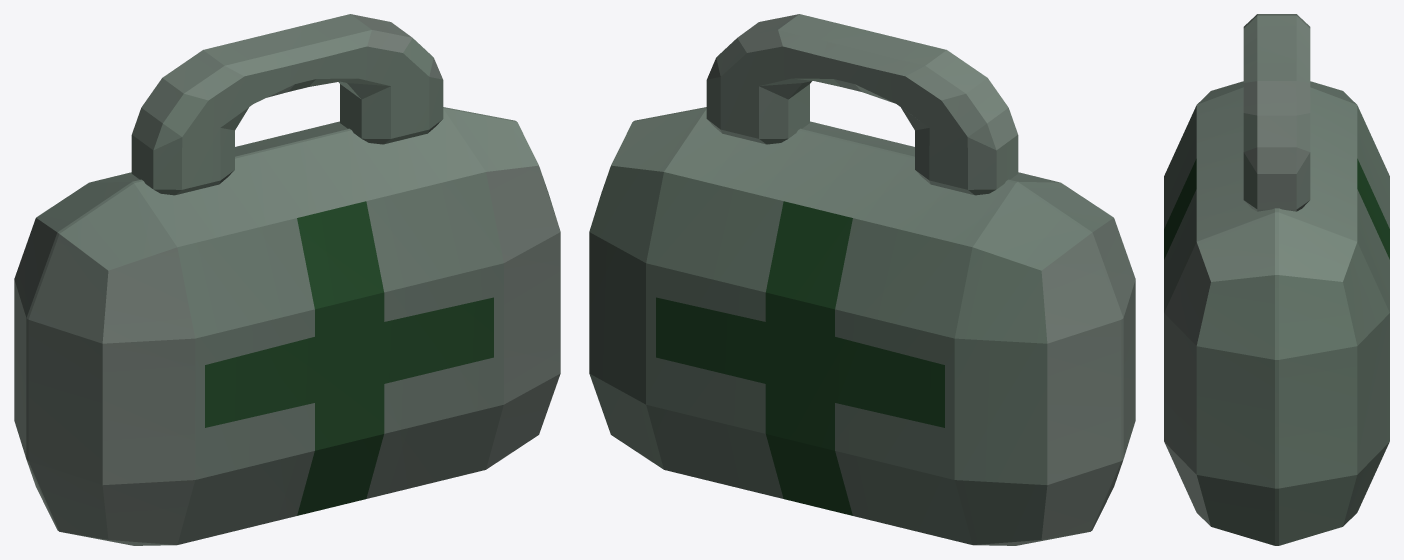
Rendered from medkit-v2.fbx.
The picture shows the model from 3 angles, left to right: view 1: azimuth 30°, elevation 25°; view 2: azimuth 150°, elevation 25°; view 3: azimuth 270°, elevation 25°; orthographic projection. The views are drawn at different scales.
Parts seen in each view (by area): view 1: Cube.001; view 2: Cube.001; view 3: Cube.001.
Boxes of the visible parts, <box> form: Cube.001: <box>14,14,560,545</box>; Cube.001: <box>589,14,1135,545</box>; Cube.001: <box>1164,14,1389,545</box>.
Bounding box in the file's own units: 6002 × 5158 × 2481.
